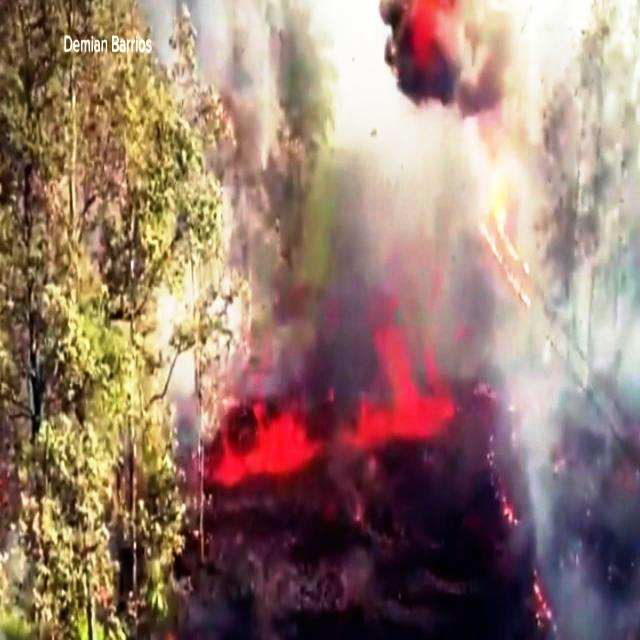api: (199, 326, 457, 504)
asap: (486, 192, 640, 640), (127, 1, 298, 314), (371, 1, 539, 153)
